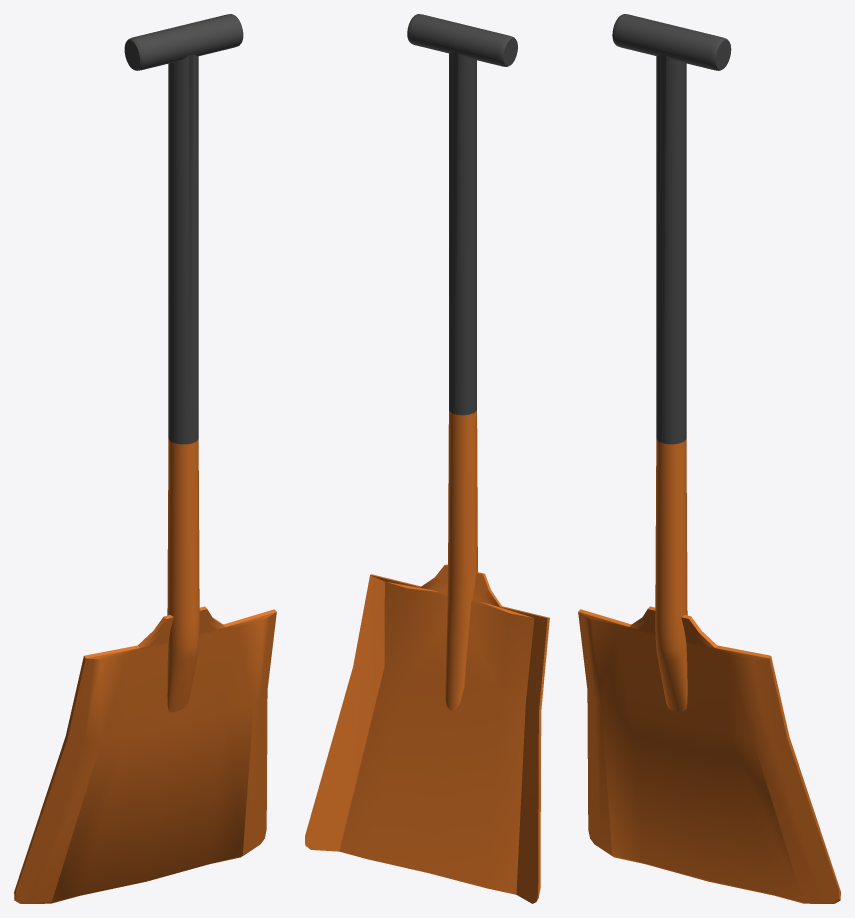
The model's file is Dinky_Shovel.fbx.
The picture shows the model from 3 angles, left to right: view 1: azimuth 30°, elevation 25°; view 2: azimuth 150°, elevation 25°; view 3: azimuth 330°, elevation 25°; orthographic projection. The views are drawn at different scales.
Parts seen in each view (by area): view 1: Dinky_Shovel; view 2: Dinky_Shovel; view 3: Dinky_Shovel.
Part boxes in pixels (left/top/right/bottom): Dinky_Shovel: left=14, top=14, right=276, bottom=903; Dinky_Shovel: left=305, top=14, right=549, bottom=903; Dinky_Shovel: left=578, top=14, right=840, bottom=903.
Bounding box in the file's own units: 61.1 × 205 × 22.68.
